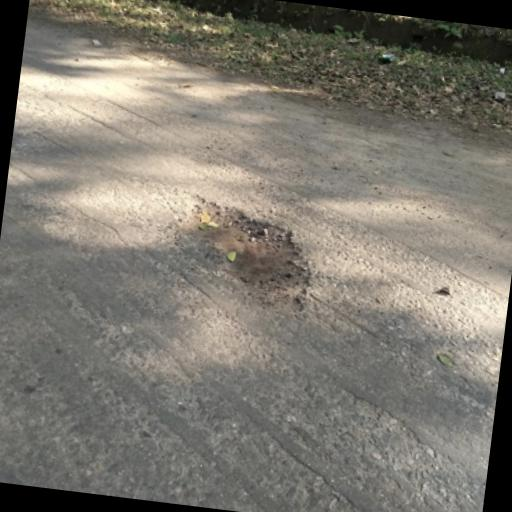pothole: (166, 188, 326, 318)
